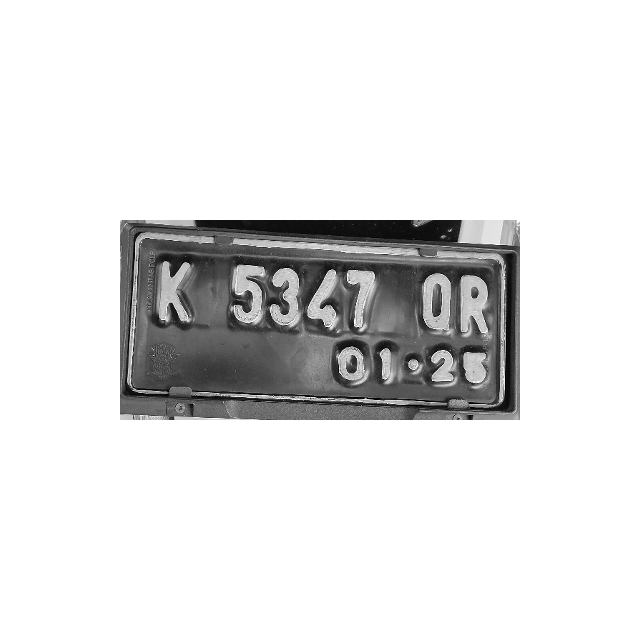contain: (226, 257, 269, 334), (153, 256, 197, 328), (268, 260, 304, 336), (347, 263, 384, 335), (458, 270, 495, 340), (306, 261, 340, 333), (418, 269, 454, 337)
